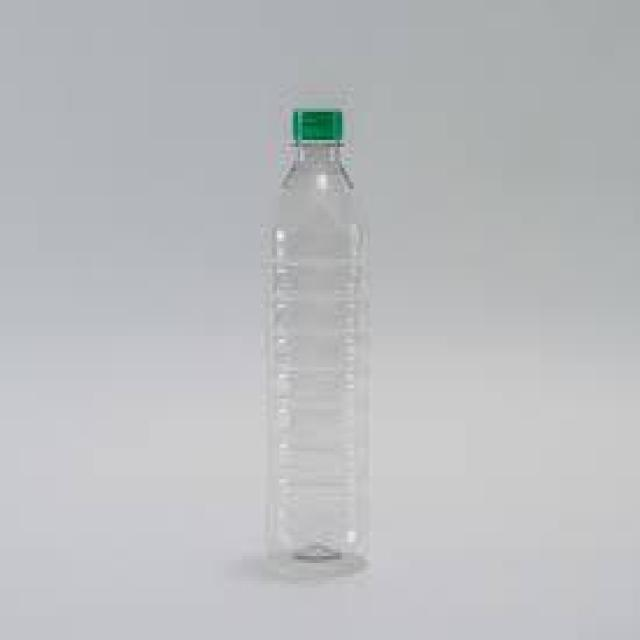bottle: (227, 86, 425, 610)
